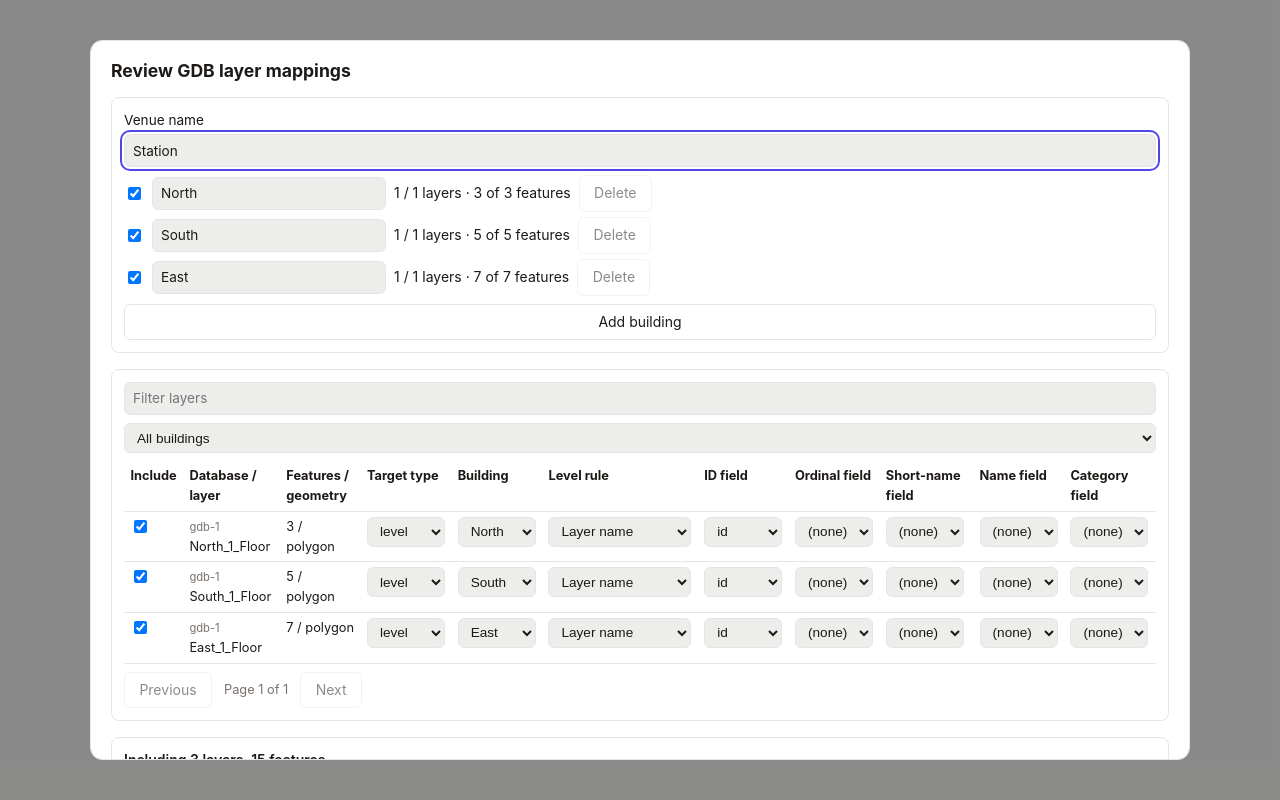
Test: GdbImportDialog › leaves the venue name alone while several buildings remain selected
Click the checkbox named "Include East": x=134, y=277 [128,271,141,284]
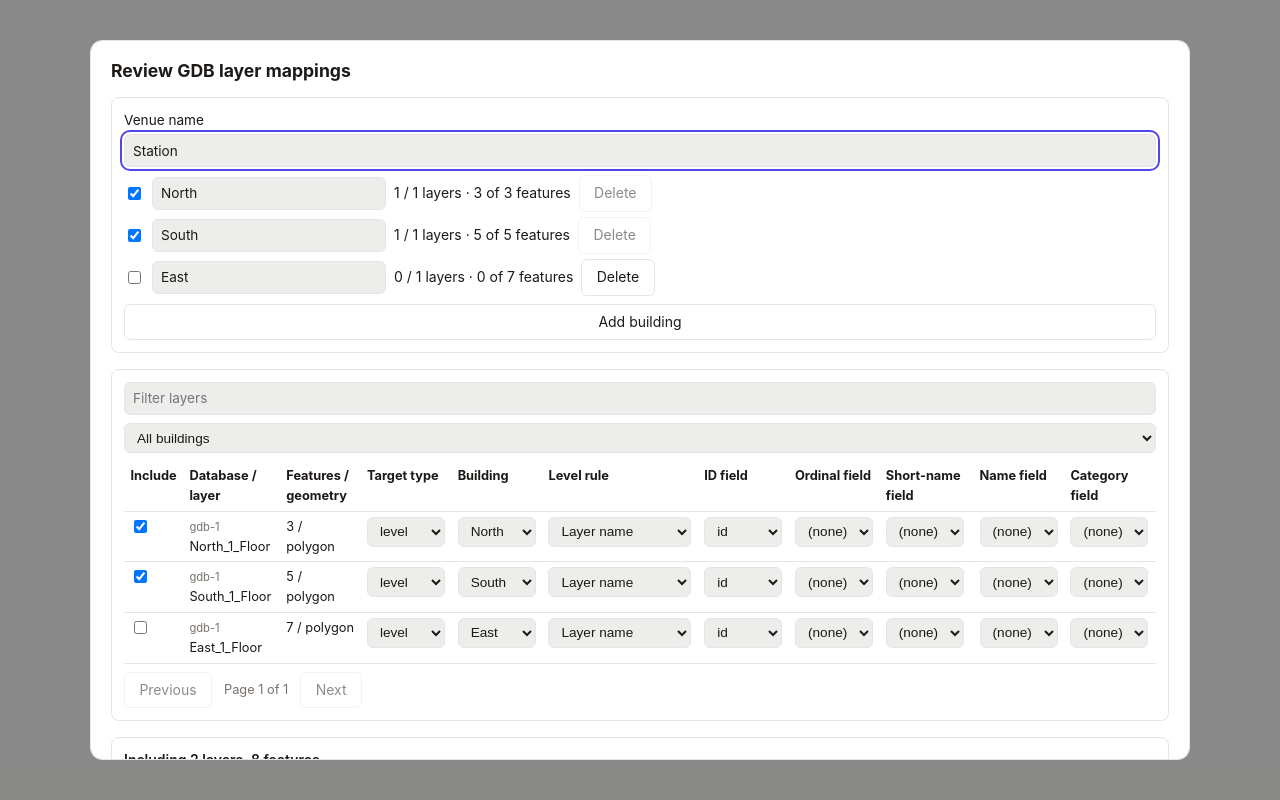
Check: the field labelled "Venue name" holds "Station", box [124,134,1156,167]
Down to exactly one, the suggestion does fire.
Click the checkbox named "Include South": x=134, y=235 [128,229,141,242]
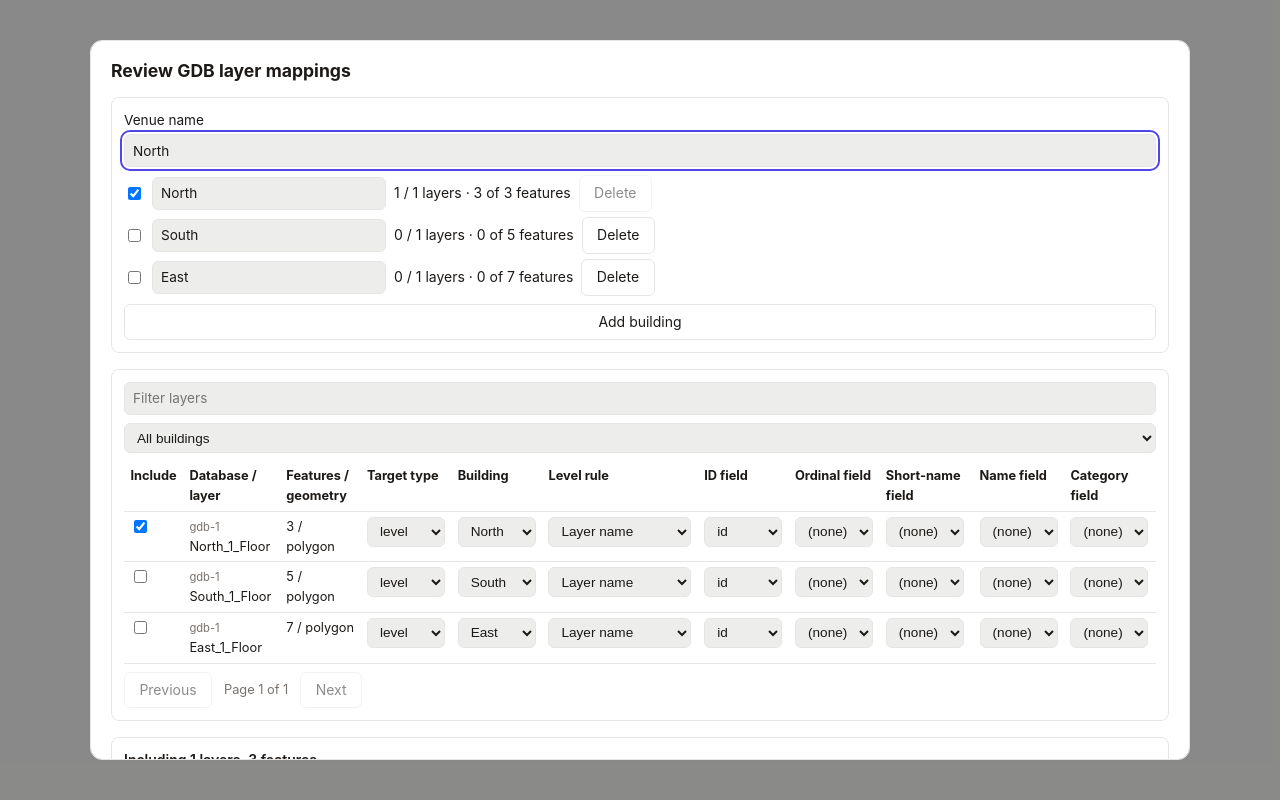
Check: the field labelled "Venue name" holds "North", box [124,134,1156,167]
